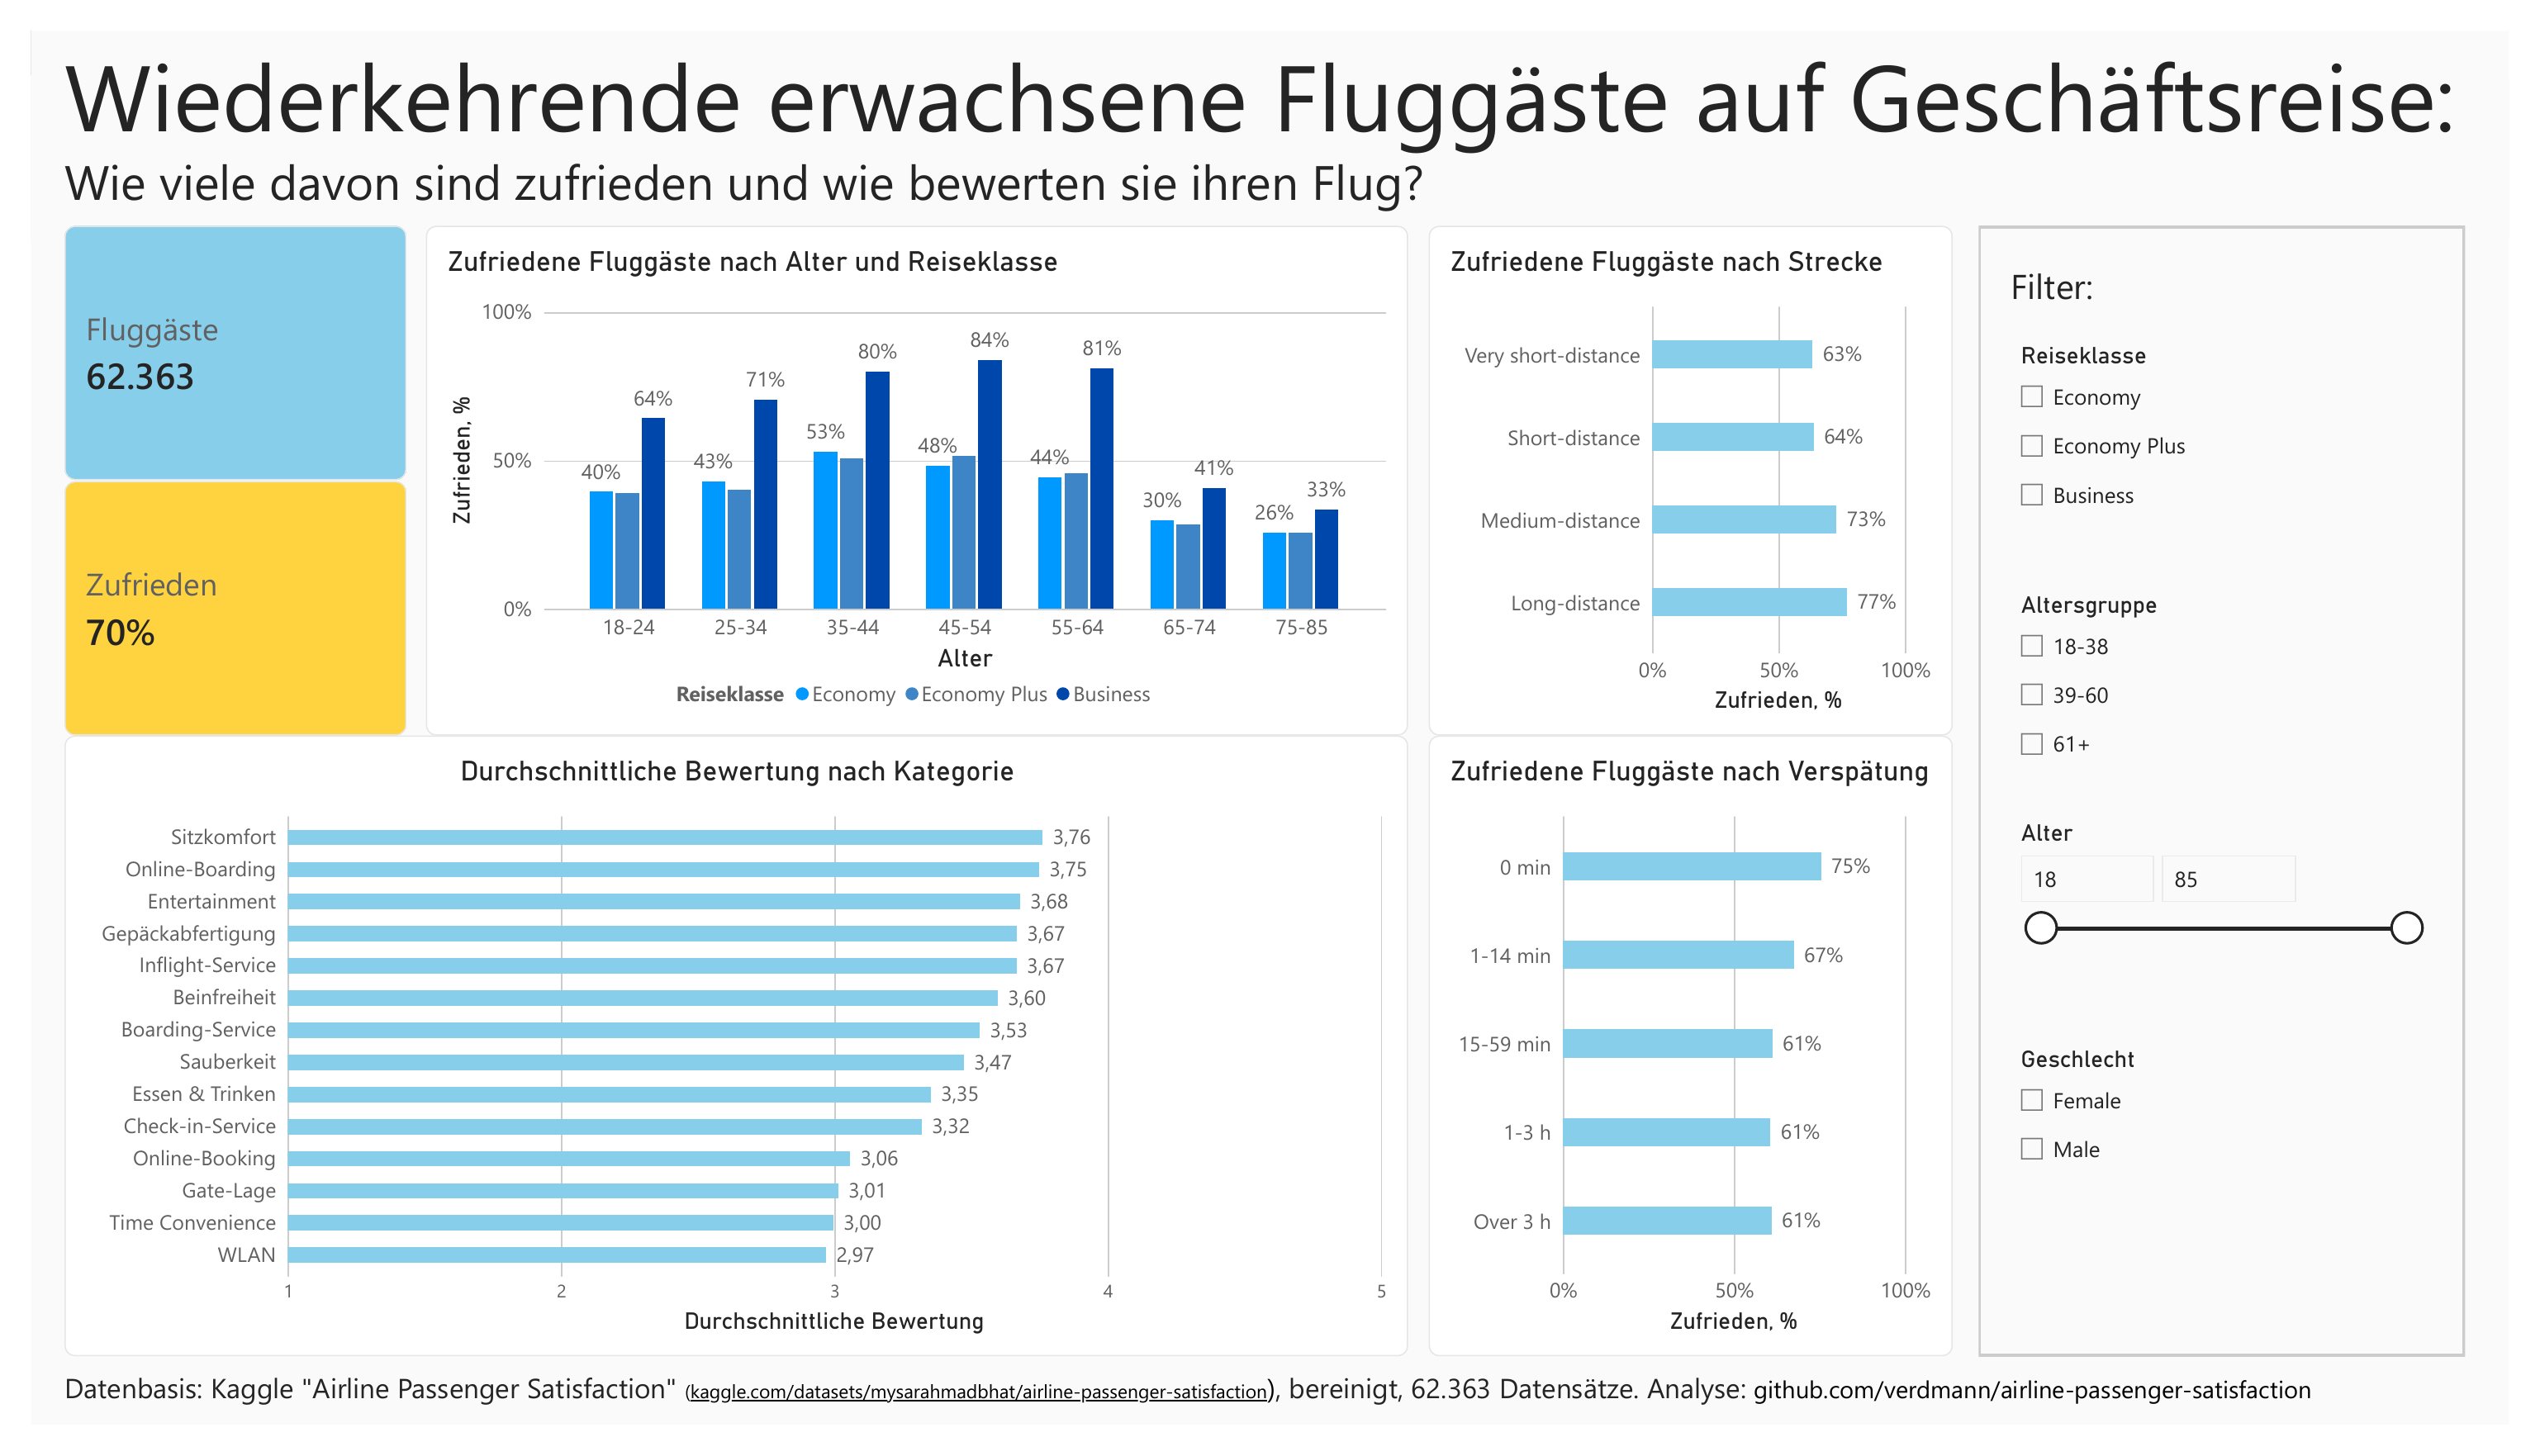

Layout of this report page (visuals, bound fields, positions):
{"tool":"powerbi","page":{"name":"Fluggastzufriedenheit","canvas":[1920,1080],"ordinal":0},"visuals":[{"type":"shape","box":[1508.6,151.4,377.1,875.7],"z":0},{"type":"cardVisual","fields":{"Data":["df_ret_business.Number of passengers"]},"box":[25.7,151.4,265.7,197.1],"z":1000},{"type":"cardVisual","fields":{"Data":["df_ret_business.Satisfaction rate"]},"box":[25.7,348.6,265.7,197.1],"z":2000},{"type":"clusteredColumnChart","title":"Zufriedene Fluggäste nach Alter und Reiseklasse","fields":{"Category":["df_ret_business.age_group"],"Series":["df_ret_business.class"],"Y":["df_ret_business.Satisfaction rate"]},"box":[305.7,151.4,761.4,394.3],"z":3000},{"type":"clusteredBarChart","title":"Durchschnittliche Bewertung nach Kategorie","fields":{"Category":["ret_business_ratings_long.category"],"Y":["ret_business_ratings_long.Average rating"]},"box":[25.7,545.7,1041.4,481.4],"z":4000},{"type":"barChart","title":"Zufriedene Fluggäste nach Verspätung","fields":{"Category":["df_ret_business.arrival_delay_category"],"Y":["df_ret_business.Satisfaction rate"]},"box":[1082.9,545.7,405.7,481.4],"z":6000},{"type":"barChart","title":"Zufriedene Fluggäste nach Strecke","fields":{"Category":["df_ret_business.distance_category"],"Y":["df_ret_business.Satisfaction rate"]},"box":[1082.9,151.4,405.7,394.3],"z":7000},{"type":"textbox","box":[25.7,0,1878.6,112.9],"z":8000},{"type":"textbox","box":[25.7,91.4,1880,60],"z":9000},{"type":"slicer","fields":{"Values":["df_ret_business.class"]},"box":[1534.3,241.4,322.9,192.9],"z":10000},{"type":"slicer","fields":{"Values":["df_ret_business.age_bracket"]},"box":[1534.3,434.3,322.9,177.1],"z":11000},{"type":"slicer","fields":{"Values":["df_ret_business.age"]},"box":[1534.3,611.4,322.9,188.6],"z":12000},{"type":"textbox","box":[1534.3,178.6,322.9,58.6],"z":13000},{"type":"slicer","fields":{"Values":["df_ret_business.gender"]},"box":[1534.3,785.7,322.9,180],"z":13001},{"type":"textbox","box":[25.7,1037.1,1860,42.9],"z":13002}]}

Visuals, with their boxes on the page's 1920x1080 design canvas (x1, y1, x2, y2). These are canvas units, not pixel positions in the 2540x1456 screenshot, which may show the page scaled, cropped or inside an application window:
shape: rect(1509, 151, 1886, 1027)
cardVisual - df_ret_business.Number of passengers: rect(26, 151, 291, 348)
cardVisual - df_ret_business.Satisfaction rate: rect(26, 349, 291, 546)
"Zufriedene Fluggäste nach Alter und Reiseklasse" clusteredColumnChart: rect(306, 151, 1067, 546)
"Durchschnittliche Bewertung nach Kategorie" clusteredBarChart: rect(26, 546, 1067, 1027)
"Zufriedene Fluggäste nach Verspätung" barChart: rect(1083, 546, 1489, 1027)
"Zufriedene Fluggäste nach Strecke" barChart: rect(1083, 151, 1489, 546)
textbox: rect(26, 0, 1904, 113)
textbox: rect(26, 91, 1906, 151)
slicer - df_ret_business.class: rect(1534, 241, 1857, 434)
slicer - df_ret_business.age_bracket: rect(1534, 434, 1857, 611)
slicer - df_ret_business.age: rect(1534, 611, 1857, 800)
textbox: rect(1534, 179, 1857, 237)
slicer - df_ret_business.gender: rect(1534, 786, 1857, 966)
textbox: rect(26, 1037, 1886, 1080)
